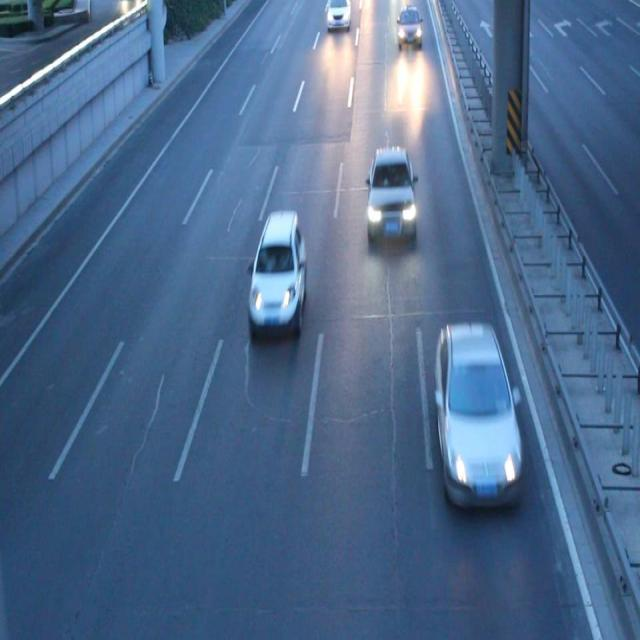car: (432, 321, 520, 507), (248, 210, 306, 330), (364, 146, 416, 242), (395, 8, 421, 49), (326, 1, 351, 29)
